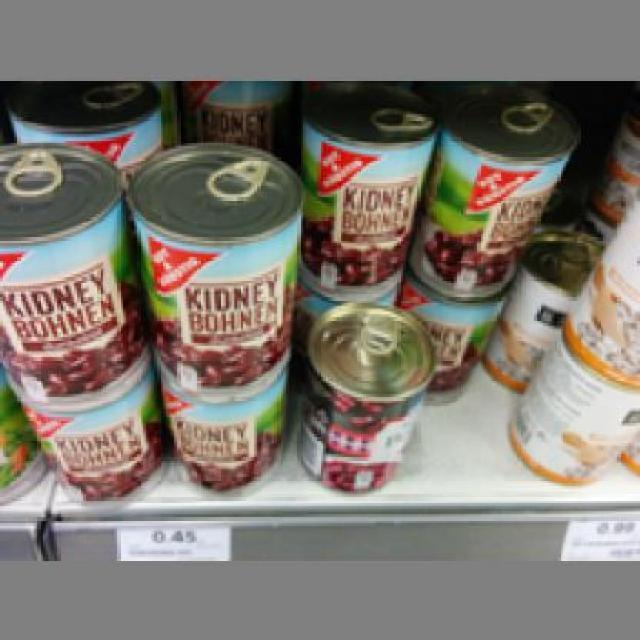Beans: (123, 136, 306, 392), (0, 143, 137, 406), (426, 92, 572, 294), (297, 300, 437, 494), (294, 95, 429, 292)
